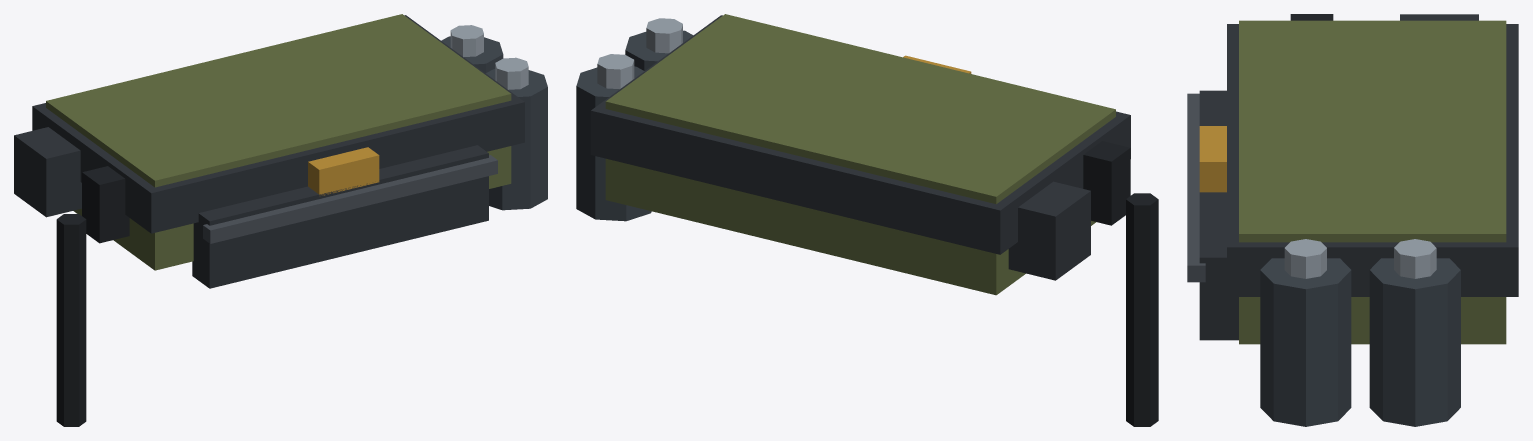
Rendered from inf_warden_lower_torso.fbx.
The picture shows the model from 3 angles, left to right: view 1: azimuth 30°, elevation 25°; view 2: azimuth 150°, elevation 25°; view 3: azimuth 270°, elevation 25°; orthographic projection. The views are drawn at different scales.
Parts seen in each view (by area): view 1: inf_warden_lower_torso; view 2: inf_warden_lower_torso; view 3: inf_warden_lower_torso.
Part boxes in pixels (bbox=[...]): inf_warden_lower_torso: bbox=[14, 14, 547, 426]; inf_warden_lower_torso: bbox=[576, 14, 1158, 426]; inf_warden_lower_torso: bbox=[1187, 14, 1518, 426].
Bounding box in the file's own units: 224 × 112 × 109.
